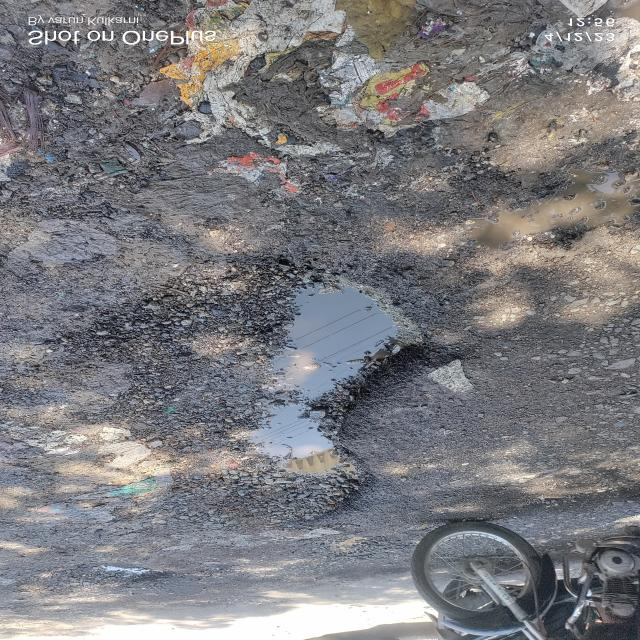Puddle pothole: (248, 258, 410, 497)
